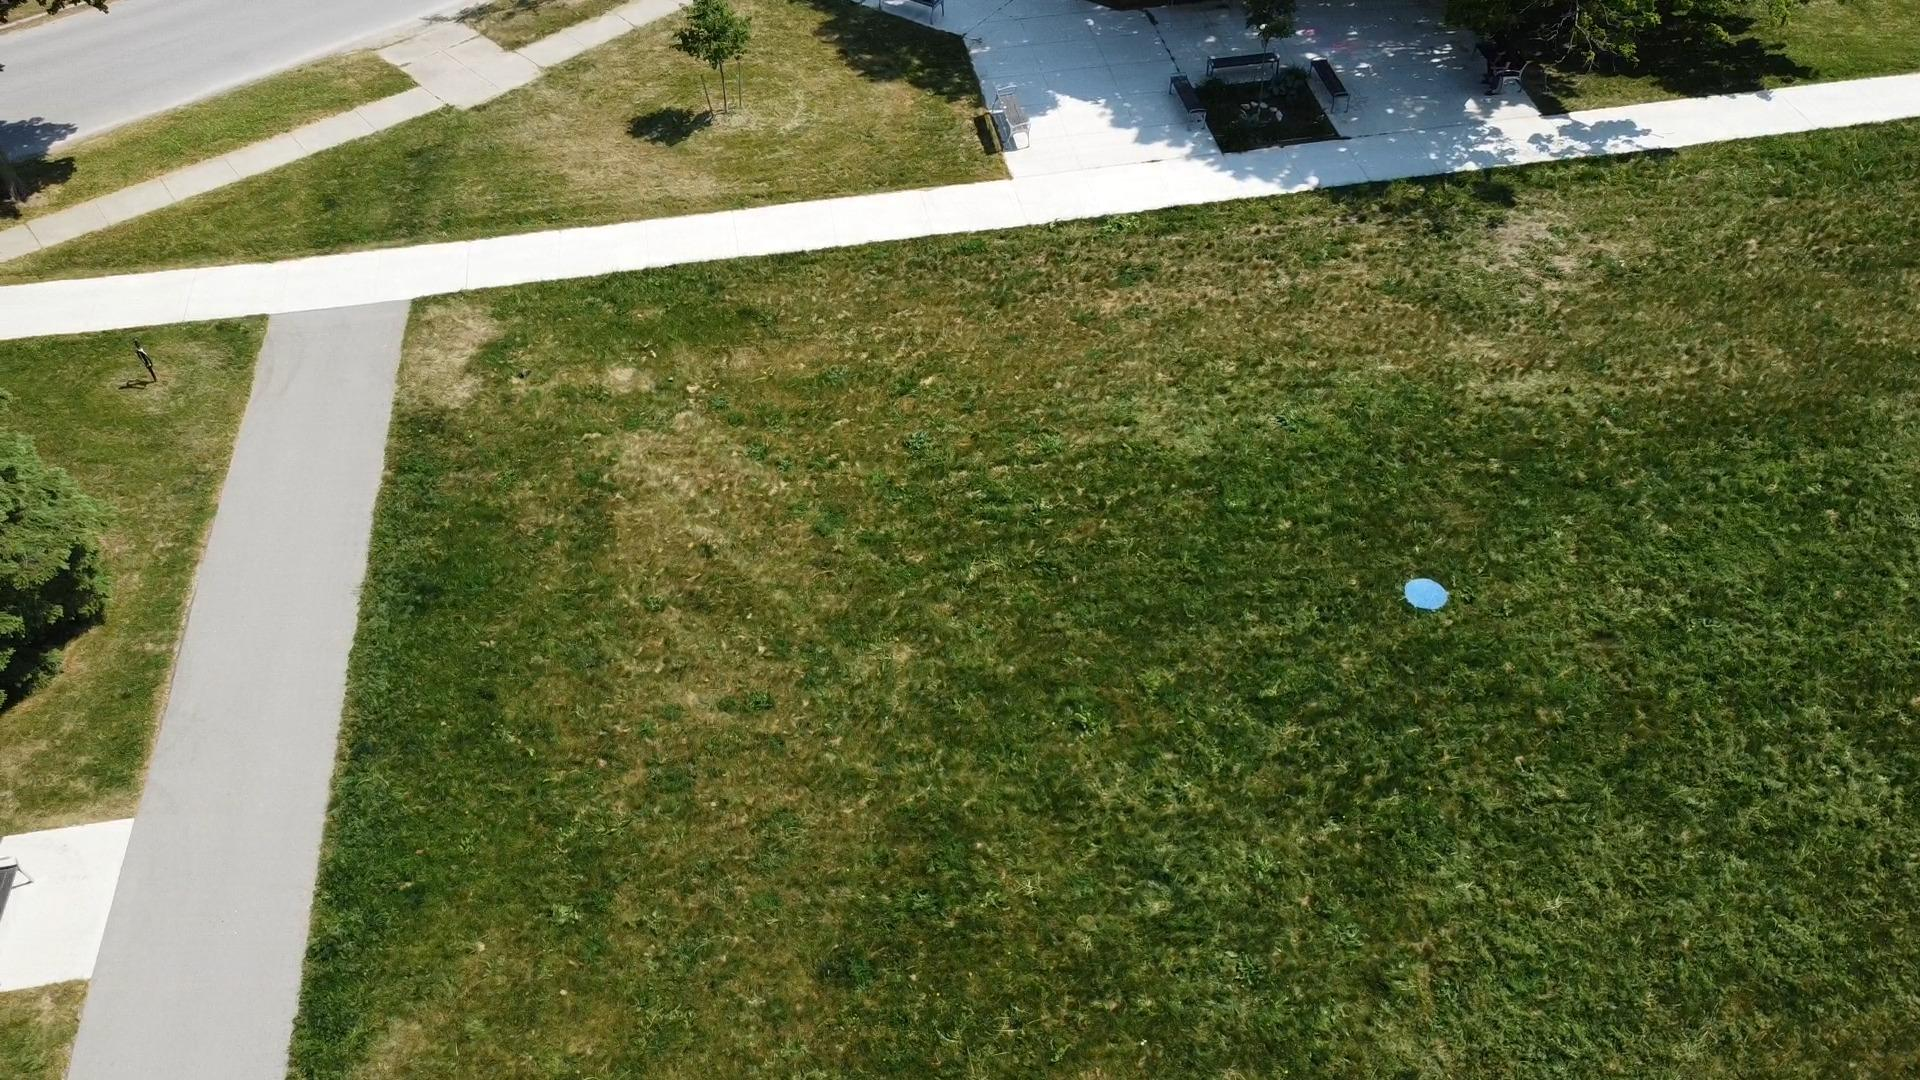Blue: (1401, 576, 1450, 611)
